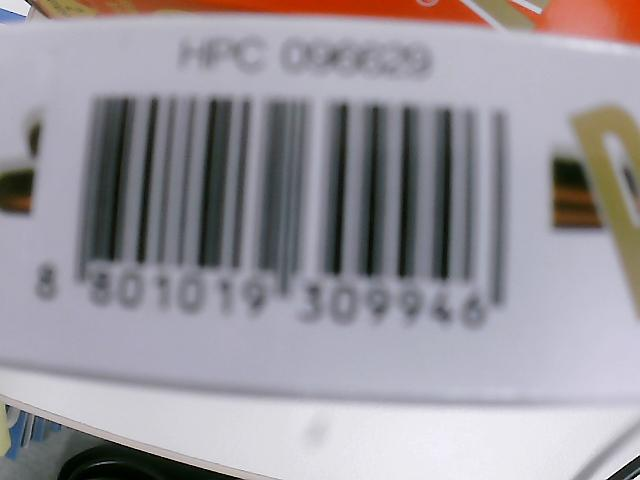whitepocky-1800-2025-8-10: (34, 93, 526, 331)
